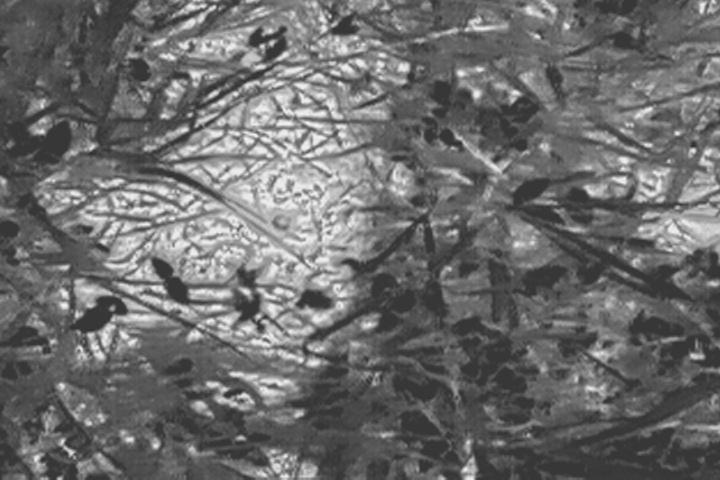landmine: (79, 76, 419, 341)
